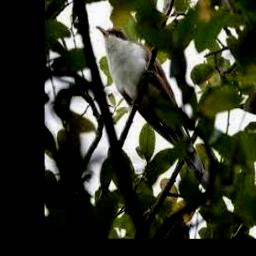Cuckoo: (97, 25, 212, 189)
